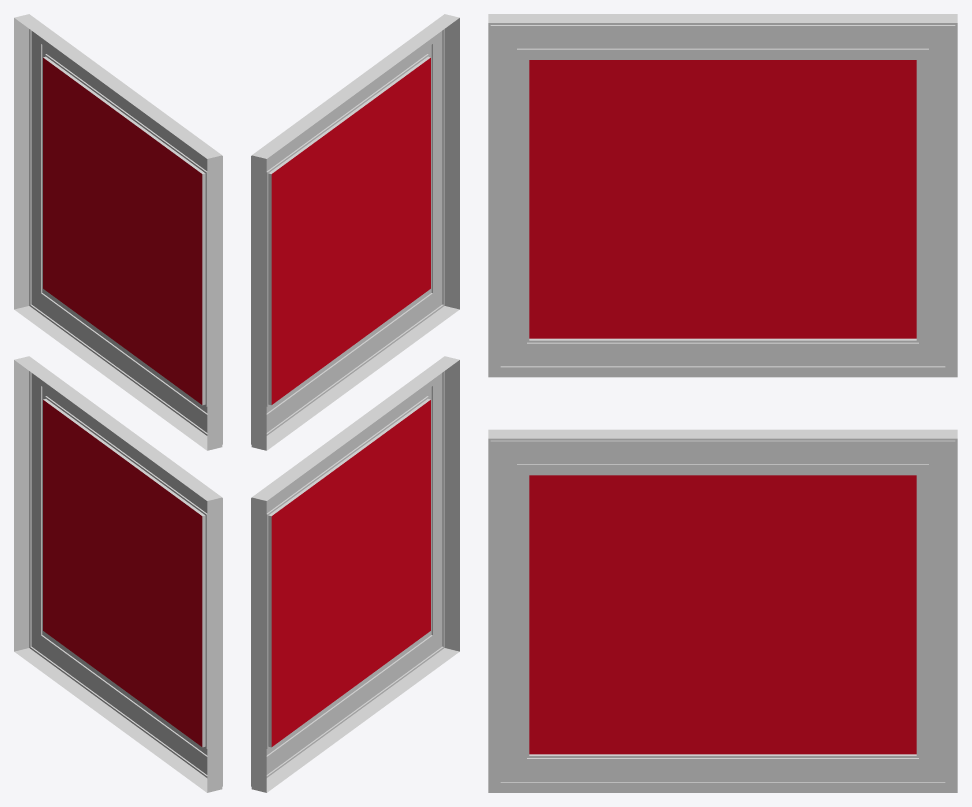
File: OrnateFrame.fbx
3 renders of one model, left to right at view 1: azimuth 30°, elevation 25°; view 2: azimuth 150°, elevation 25°; view 3: azimuth 270°, elevation 25°, orthographic. The views are drawn at different scales.
Visible parts, largest first — view 1: Cube.005; view 2: Cube.005; view 3: Cube.005.
Boxes of the visible parts, x1,y1,x2,y2 form: Cube.005: [14, 14, 222, 792]; Cube.005: [251, 14, 459, 792]; Cube.005: [488, 14, 957, 792].
Size of the model in its own units: 5.66 by 206 by 114.
